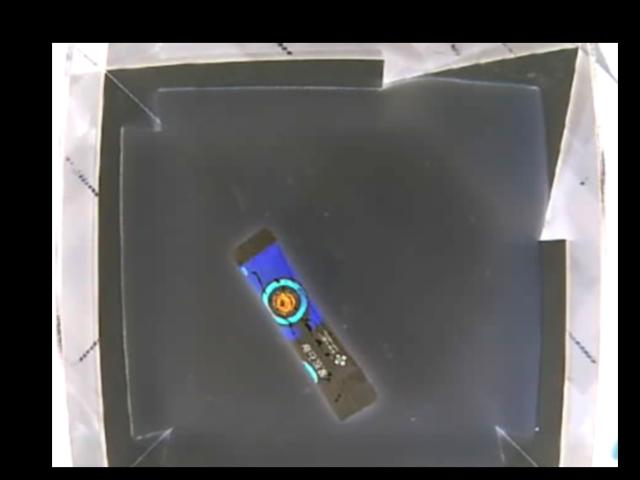Medicine: (231, 226, 378, 417)
